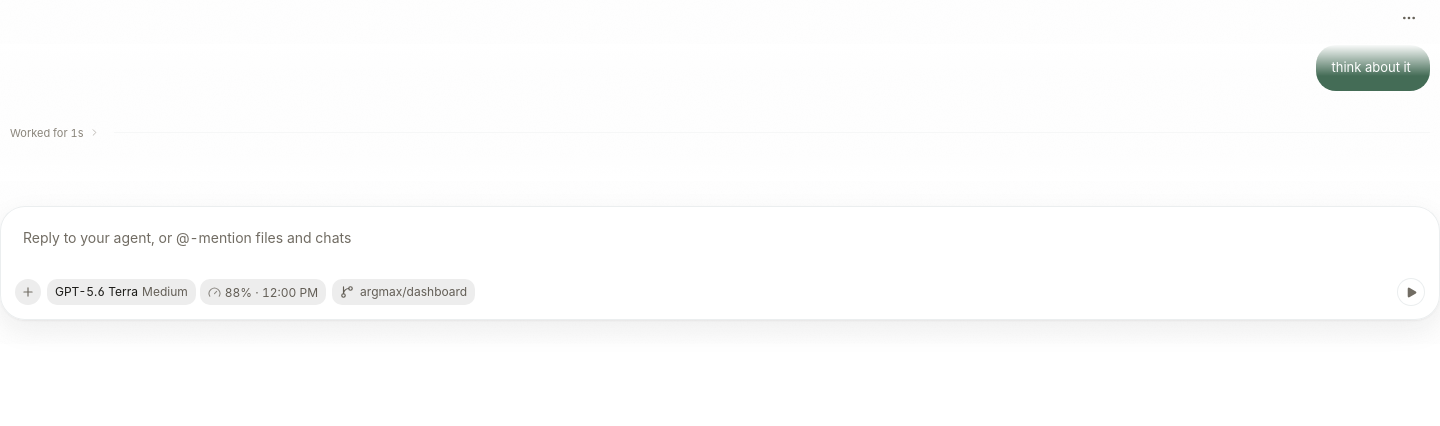
Test case: SessionConversation — single-line activity mode › leaves a reasoning-only turn a chip to open instead of an empty block
Expected: the text "Weighing the options carefully." is not shown
What coordinates should you click on to do the following:
click the button "Worked for 1s"
I would click on:
 (58, 133)
Its box is [10,125,106,141].
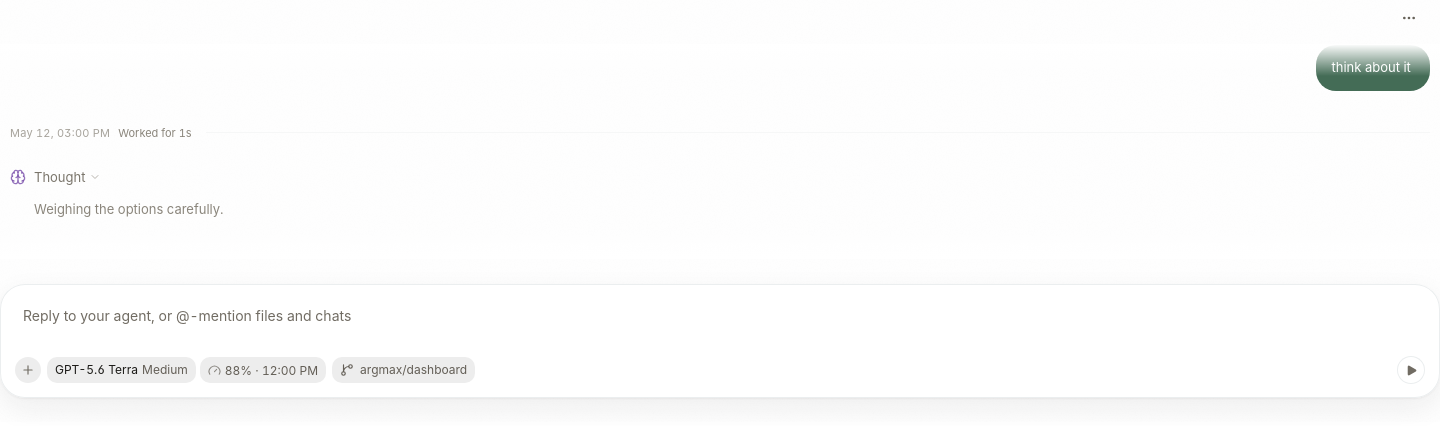
Result: the text "Weighing the options carefully." is shown at [34,201,224,217]
